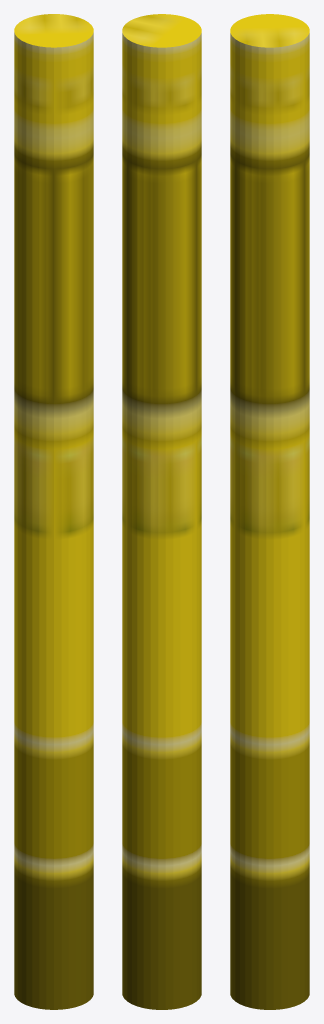
The model's file is flag1y.obj.
The picture shows the model from 3 angles, left to right: view 1: azimuth 90°, elevation 25°; view 2: azimuth 150°, elevation 25°; view 3: azimuth 270°, elevation 25°; orthographic projection.
Visible parts, largest first — view 1: ColobotMesh_1_ColobotMesh_; view 2: ColobotMesh_1_ColobotMesh_; view 3: ColobotMesh_1_ColobotMesh_.
Part boxes in pixels (x1,y1,x2,y2): ColobotMesh_1_ColobotMesh_: (14, 14, 93, 1009); ColobotMesh_1_ColobotMesh_: (122, 14, 201, 1009); ColobotMesh_1_ColobotMesh_: (230, 14, 309, 1009).
Bounding box in the file's own units: 0.5986 × 7.99 × 0.5993.
